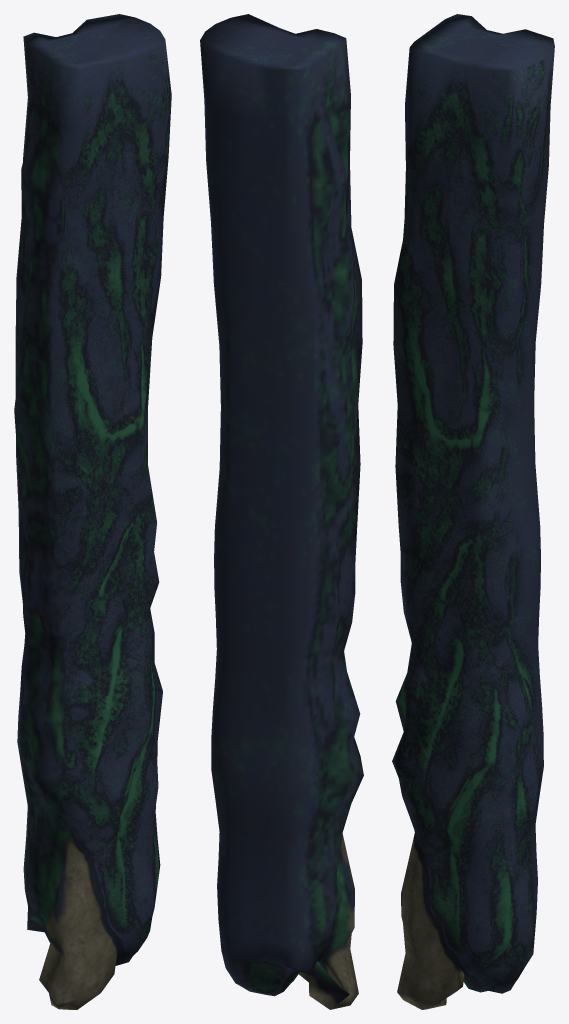
The model's file is RockPillar_Top.fbx.
3 views of the same model, side by side, from view 1: azimuth 30°, elevation 25°; view 2: azimuth 150°, elevation 25°; view 3: azimuth 330°, elevation 25° (orthographic). The views are drawn at different scales.
Parts seen in each view (by area): view 1: RockPillar_Top_low; view 2: RockPillar_Top_low; view 3: RockPillar_Top_low.
Part boxes in pixels (box(x1,y1,x2,y2)): RockPillar_Top_low: box(14, 14, 171, 1009); RockPillar_Top_low: box(200, 14, 363, 1009); RockPillar_Top_low: box(392, 14, 554, 1009).
Size of the model in its own units: 165 by 1047 by 117.
Materials: 1 (1 with a texture image).
